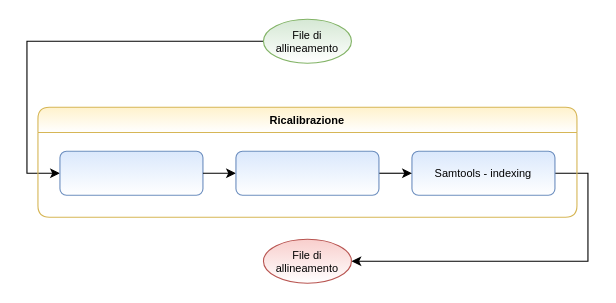
Some shapes in this 616 by 303 pixel diagram are drawn without their labels. The centre of each missing label's shape, as x and y in pixels:
BaseRecalibrator: pixel 131 172
PrintReads: pixel 307 172
